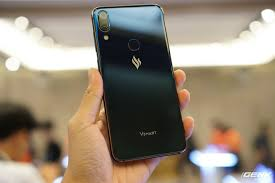vsmart: (88, 2, 188, 164)
